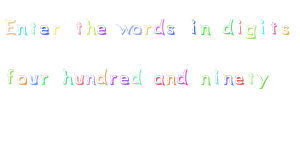E: (2, 16, 17, 36)
a: (153, 73, 165, 87)
d: (176, 66, 189, 87), (130, 66, 142, 86), (154, 17, 166, 35), (222, 18, 234, 36), (96, 67, 108, 85)
e: (118, 73, 131, 86), (233, 72, 245, 86), (96, 23, 108, 36), (39, 23, 50, 36)
f: (5, 67, 15, 86)
g: (244, 24, 257, 40)
h: (61, 66, 73, 86), (85, 18, 96, 35)
i: (189, 16, 198, 36), (258, 16, 267, 36), (212, 66, 221, 86), (236, 18, 244, 36)
n: (221, 72, 234, 86), (165, 73, 176, 87), (200, 23, 212, 35), (16, 23, 27, 36), (85, 73, 96, 86), (200, 74, 211, 86)
o: (131, 23, 143, 36), (16, 73, 28, 86)
r: (109, 73, 119, 86), (143, 22, 152, 36), (51, 23, 60, 36), (40, 73, 49, 86)
s: (280, 22, 291, 37), (165, 23, 176, 35)
t: (269, 19, 279, 36), (29, 20, 38, 35), (246, 70, 255, 85), (74, 21, 83, 35)
u: (28, 73, 40, 86), (73, 73, 85, 85)
w: (115, 22, 132, 35)
y: (255, 73, 270, 90)
